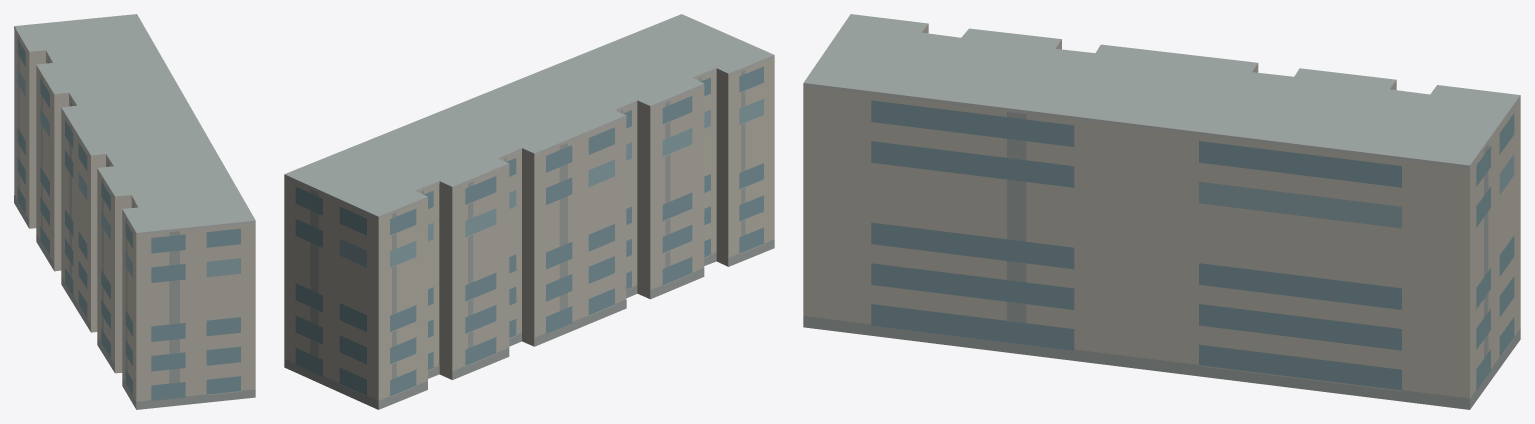
Rendered from survey-upis-32871982.glb.
3 views of the same model, side by side, from view 1: azimuth 30°, elevation 25°; view 2: azimuth 150°, elevation 25°; view 3: azimuth 270°, elevation 25° (orthographic). The views are drawn at different scales.
Visible parts, largest first — view 1: survey-upis-32871982.tmp; view 2: survey-upis-32871982.tmp; view 3: survey-upis-32871982.tmp.
Boxes of the visible parts, <box> form: survey-upis-32871982.tmp: <box>14,14,255,409</box>; survey-upis-32871982.tmp: <box>284,14,774,409</box>; survey-upis-32871982.tmp: <box>803,14,1520,409</box>.
Size of the model in its own units: 21.15 by 15.9 by 42.29.
